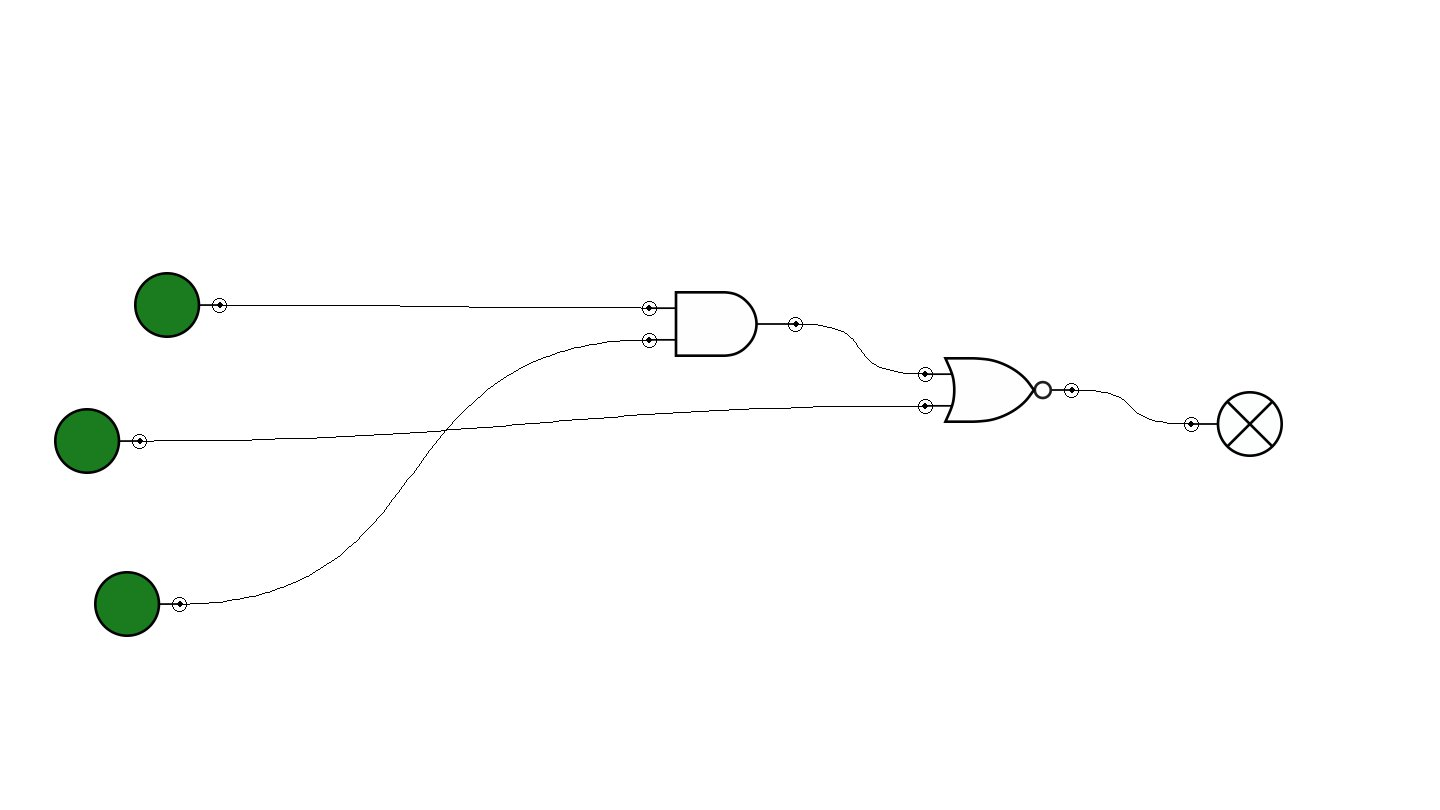and: (642, 291, 803, 357)
bulb: (1184, 391, 1283, 457)
nor: (918, 357, 1079, 423)
switch_True: (94, 571, 187, 637), (54, 408, 147, 474), (134, 272, 227, 338)
